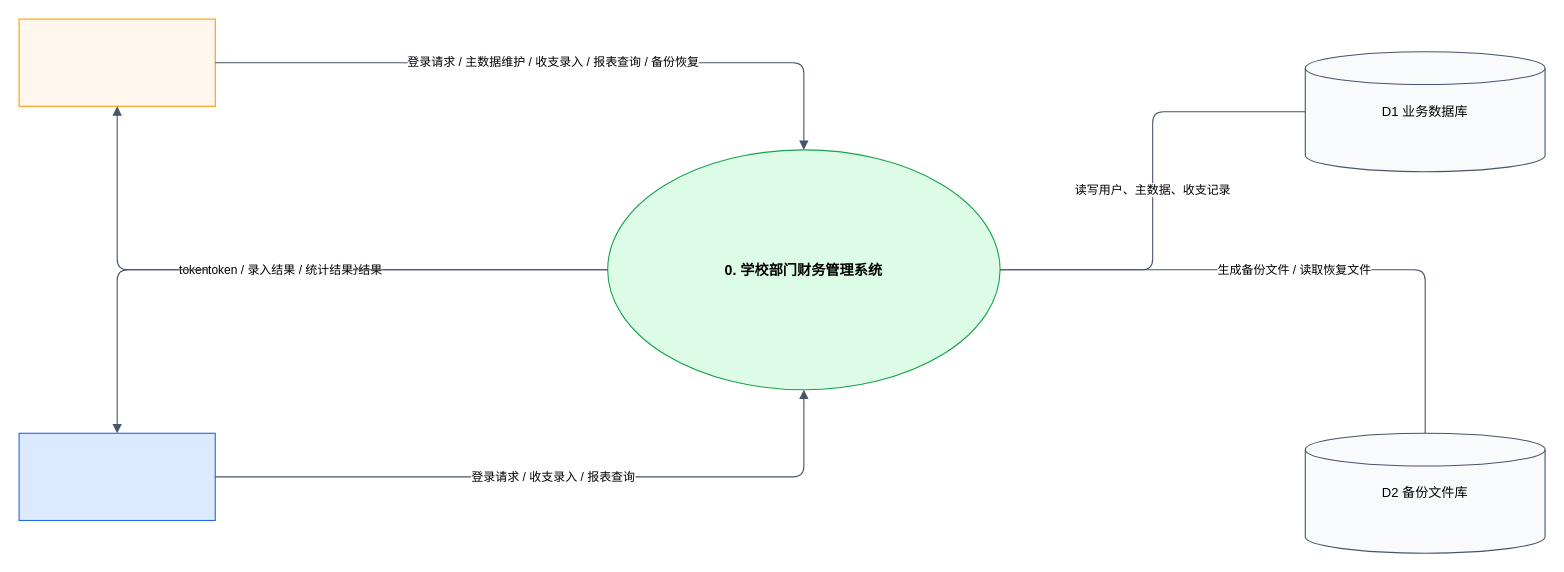
Some shapes in this 1564 by 572 pixel diagram are drawn without their labels. The shapes that lost their labels are listed below. From the top down, each one's centre as x and y in pixels, then its label:
At [116,62]: "管理员".
At [116,476]: "财务员".
